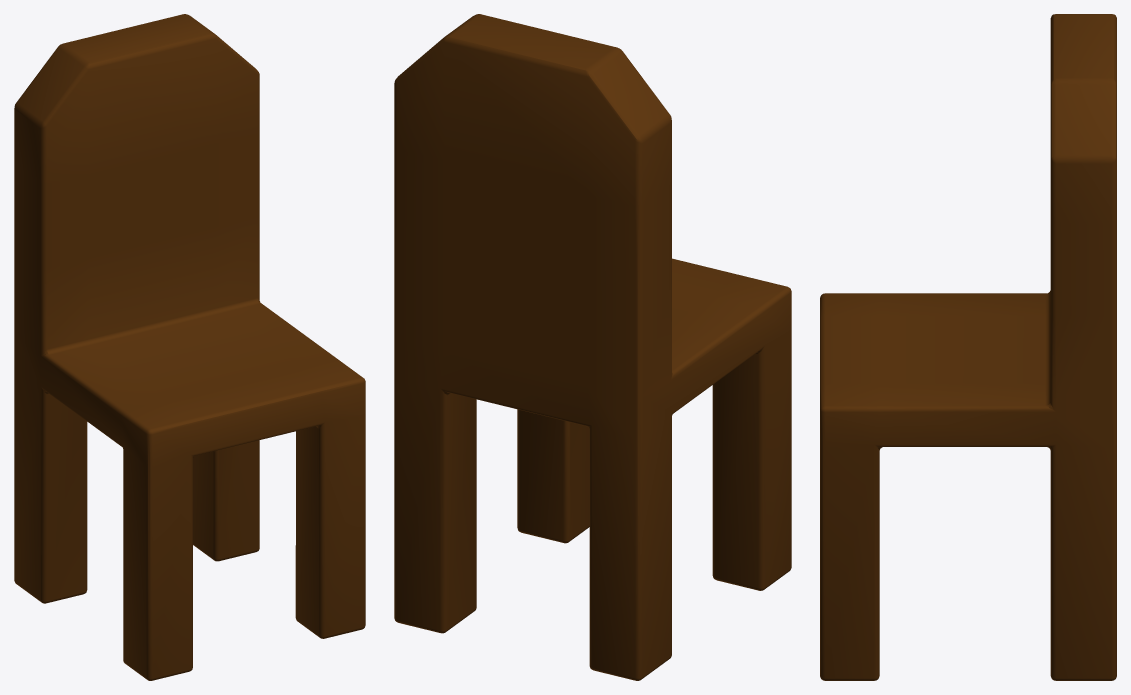
The model's file is chair.glb.
3 renders of one model, left to right at view 1: azimuth 30°, elevation 25°; view 2: azimuth 150°, elevation 25°; view 3: azimuth 270°, elevation 25°, orthographic. The views are drawn at different scales.
Visible parts, largest first — view 1: chair; view 2: chair; view 3: chair.
Boxes of the visible parts, box(x1,y1,x2,y2) form: chair: box(14, 14, 365, 680); chair: box(394, 14, 791, 680); chair: box(820, 14, 1116, 680).
Bounding box in the file's own units: 1.05 × 2.44 × 1.14.
